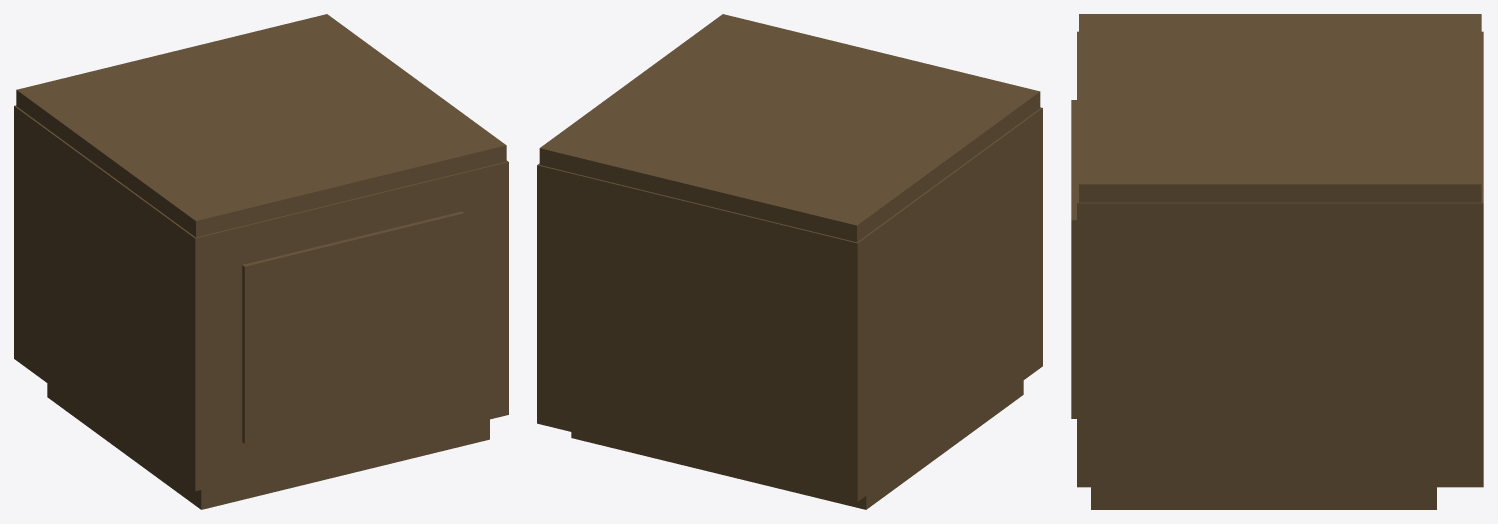
The model's file is open_sign_whole.glb.
3 views of the same model, side by side, from view 1: azimuth 30°, elevation 25°; view 2: azimuth 150°, elevation 25°; view 3: azimuth 270°, elevation 25° (orthographic). The views are drawn at different scales.
Visible parts, largest first — view 1: open_sign_whole_0; view 2: open_sign_whole_0; view 3: open_sign_whole_0.
Boxes of the visible parts, x1,y1,x2,y2 form: open_sign_whole_0: (14, 14, 508, 509); open_sign_whole_0: (537, 14, 1042, 509); open_sign_whole_0: (1071, 14, 1483, 509).
Size of the model in its own units: 1 by 0.9 by 1.01.
